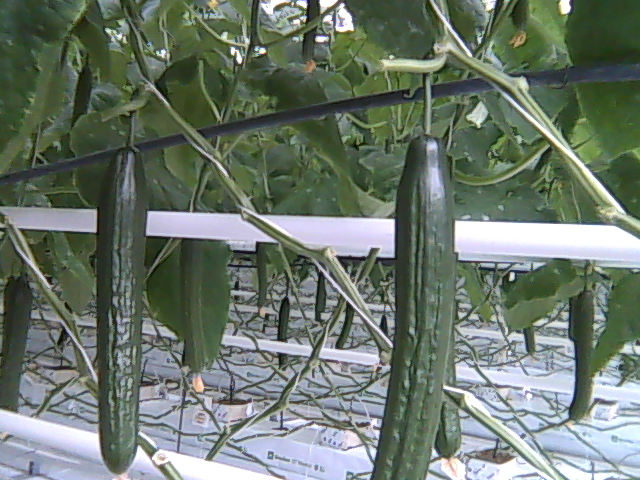concombre: (368, 113, 459, 480), (91, 131, 151, 480)
